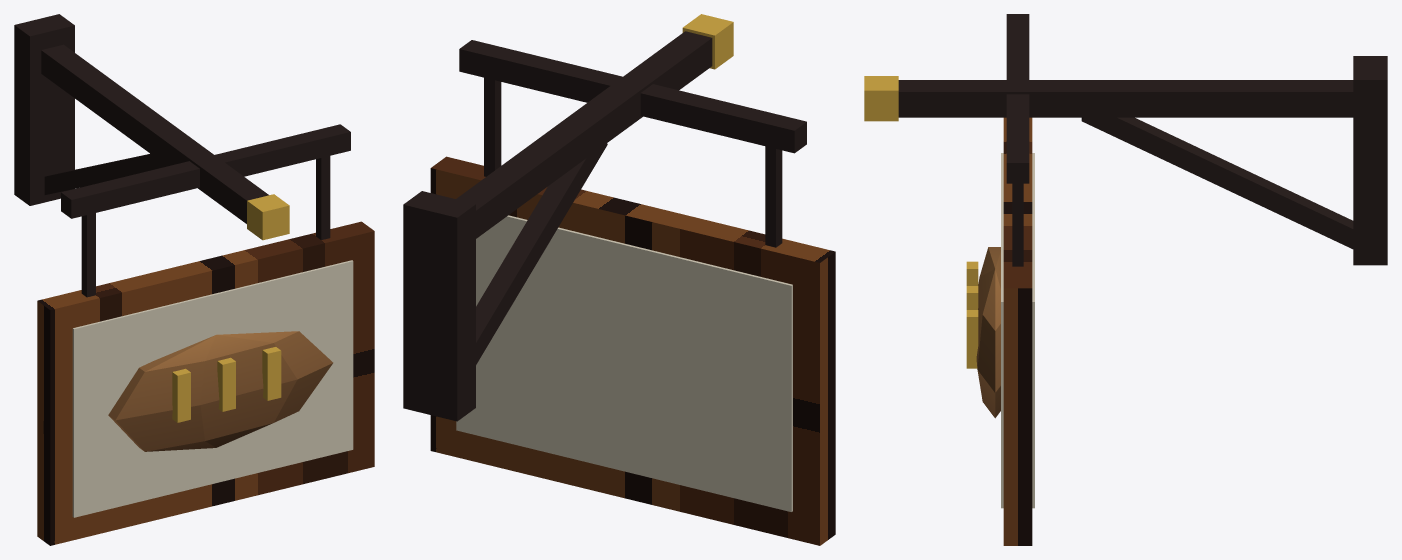
File: hanging_sign_loaf.glb
The picture shows the model from 3 angles, left to right: view 1: azimuth 30°, elevation 25°; view 2: azimuth 150°, elevation 25°; view 3: azimuth 270°, elevation 25°; orthographic projection. The views are drawn at different scales.
Visible parts, largest first — view 1: hanging_sign_loaf; view 2: hanging_sign_loaf; view 3: hanging_sign_loaf.
Boxes of the visible parts, left/top/right/bottom form: hanging_sign_loaf: left=14, top=14, right=374, bottom=545; hanging_sign_loaf: left=403, top=14, right=835, bottom=545; hanging_sign_loaf: left=864, top=14, right=1387, bottom=545.
Bounding box in the file's own units: 0.72 × 0.76 × 0.92.
Materials: 2 (1 with a texture image).
